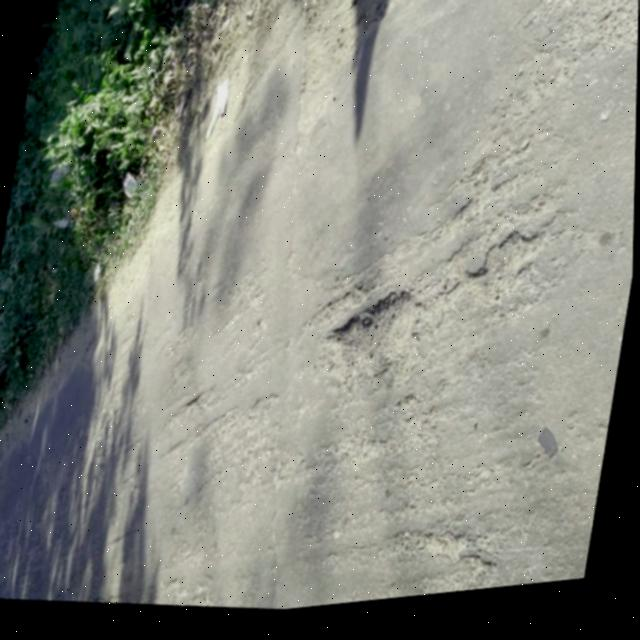Pothole: (319, 283, 425, 389), (466, 229, 545, 320)
